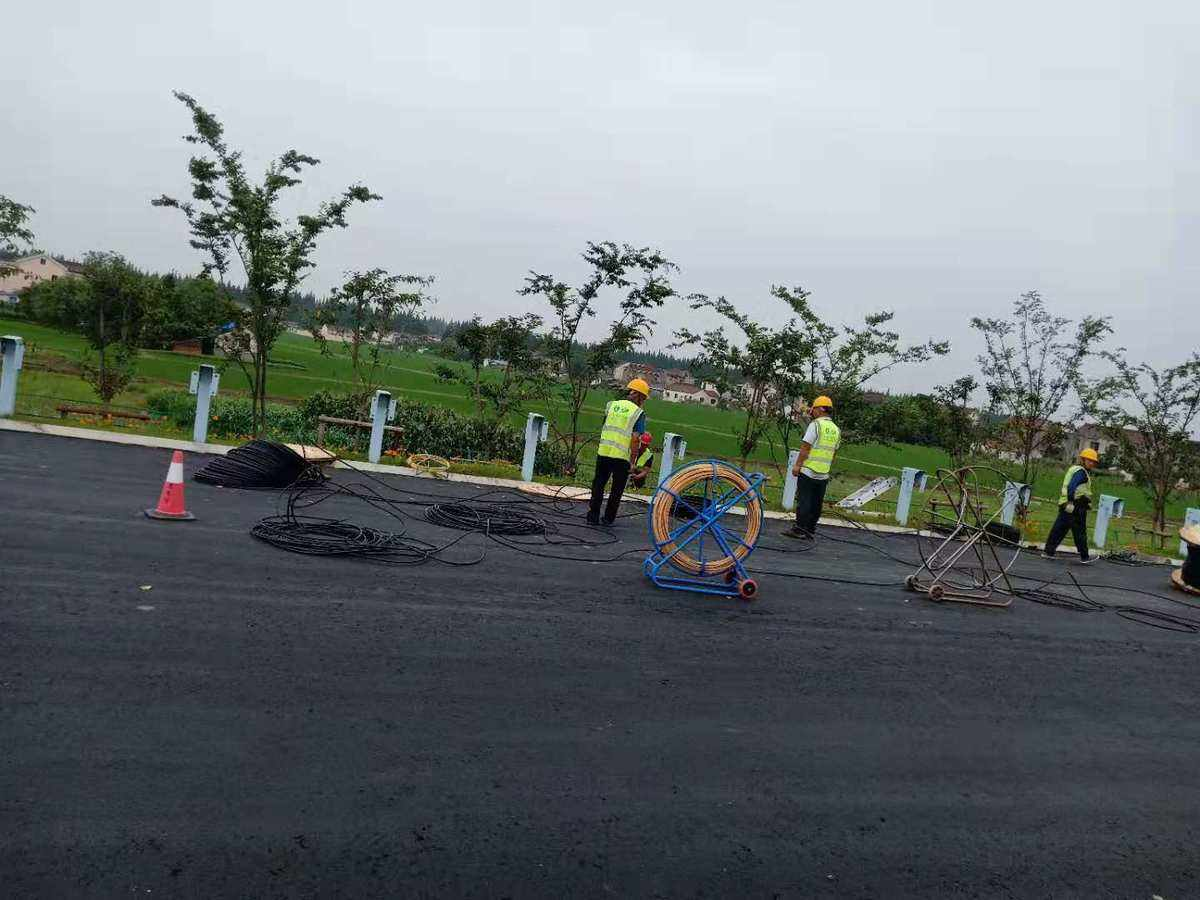person: (585, 376, 652, 526), (780, 392, 843, 537), (1040, 447, 1101, 563), (627, 432, 655, 488)
reflective_vest: (596, 398, 643, 464), (798, 416, 842, 476), (1057, 465, 1094, 506), (634, 449, 654, 466)
safety_helmet: (624, 376, 651, 406), (807, 392, 833, 418), (1076, 446, 1100, 467), (639, 432, 653, 448)
